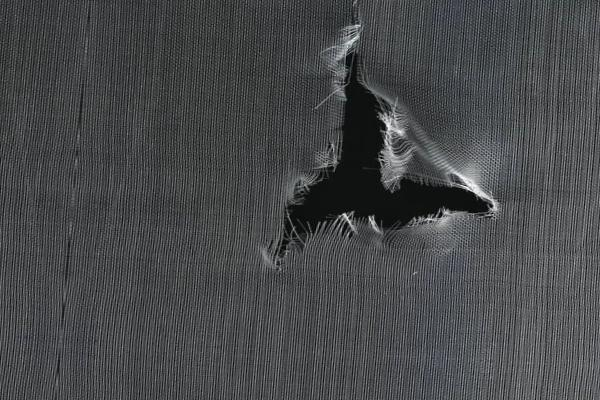hole: (272, 22, 498, 262)
